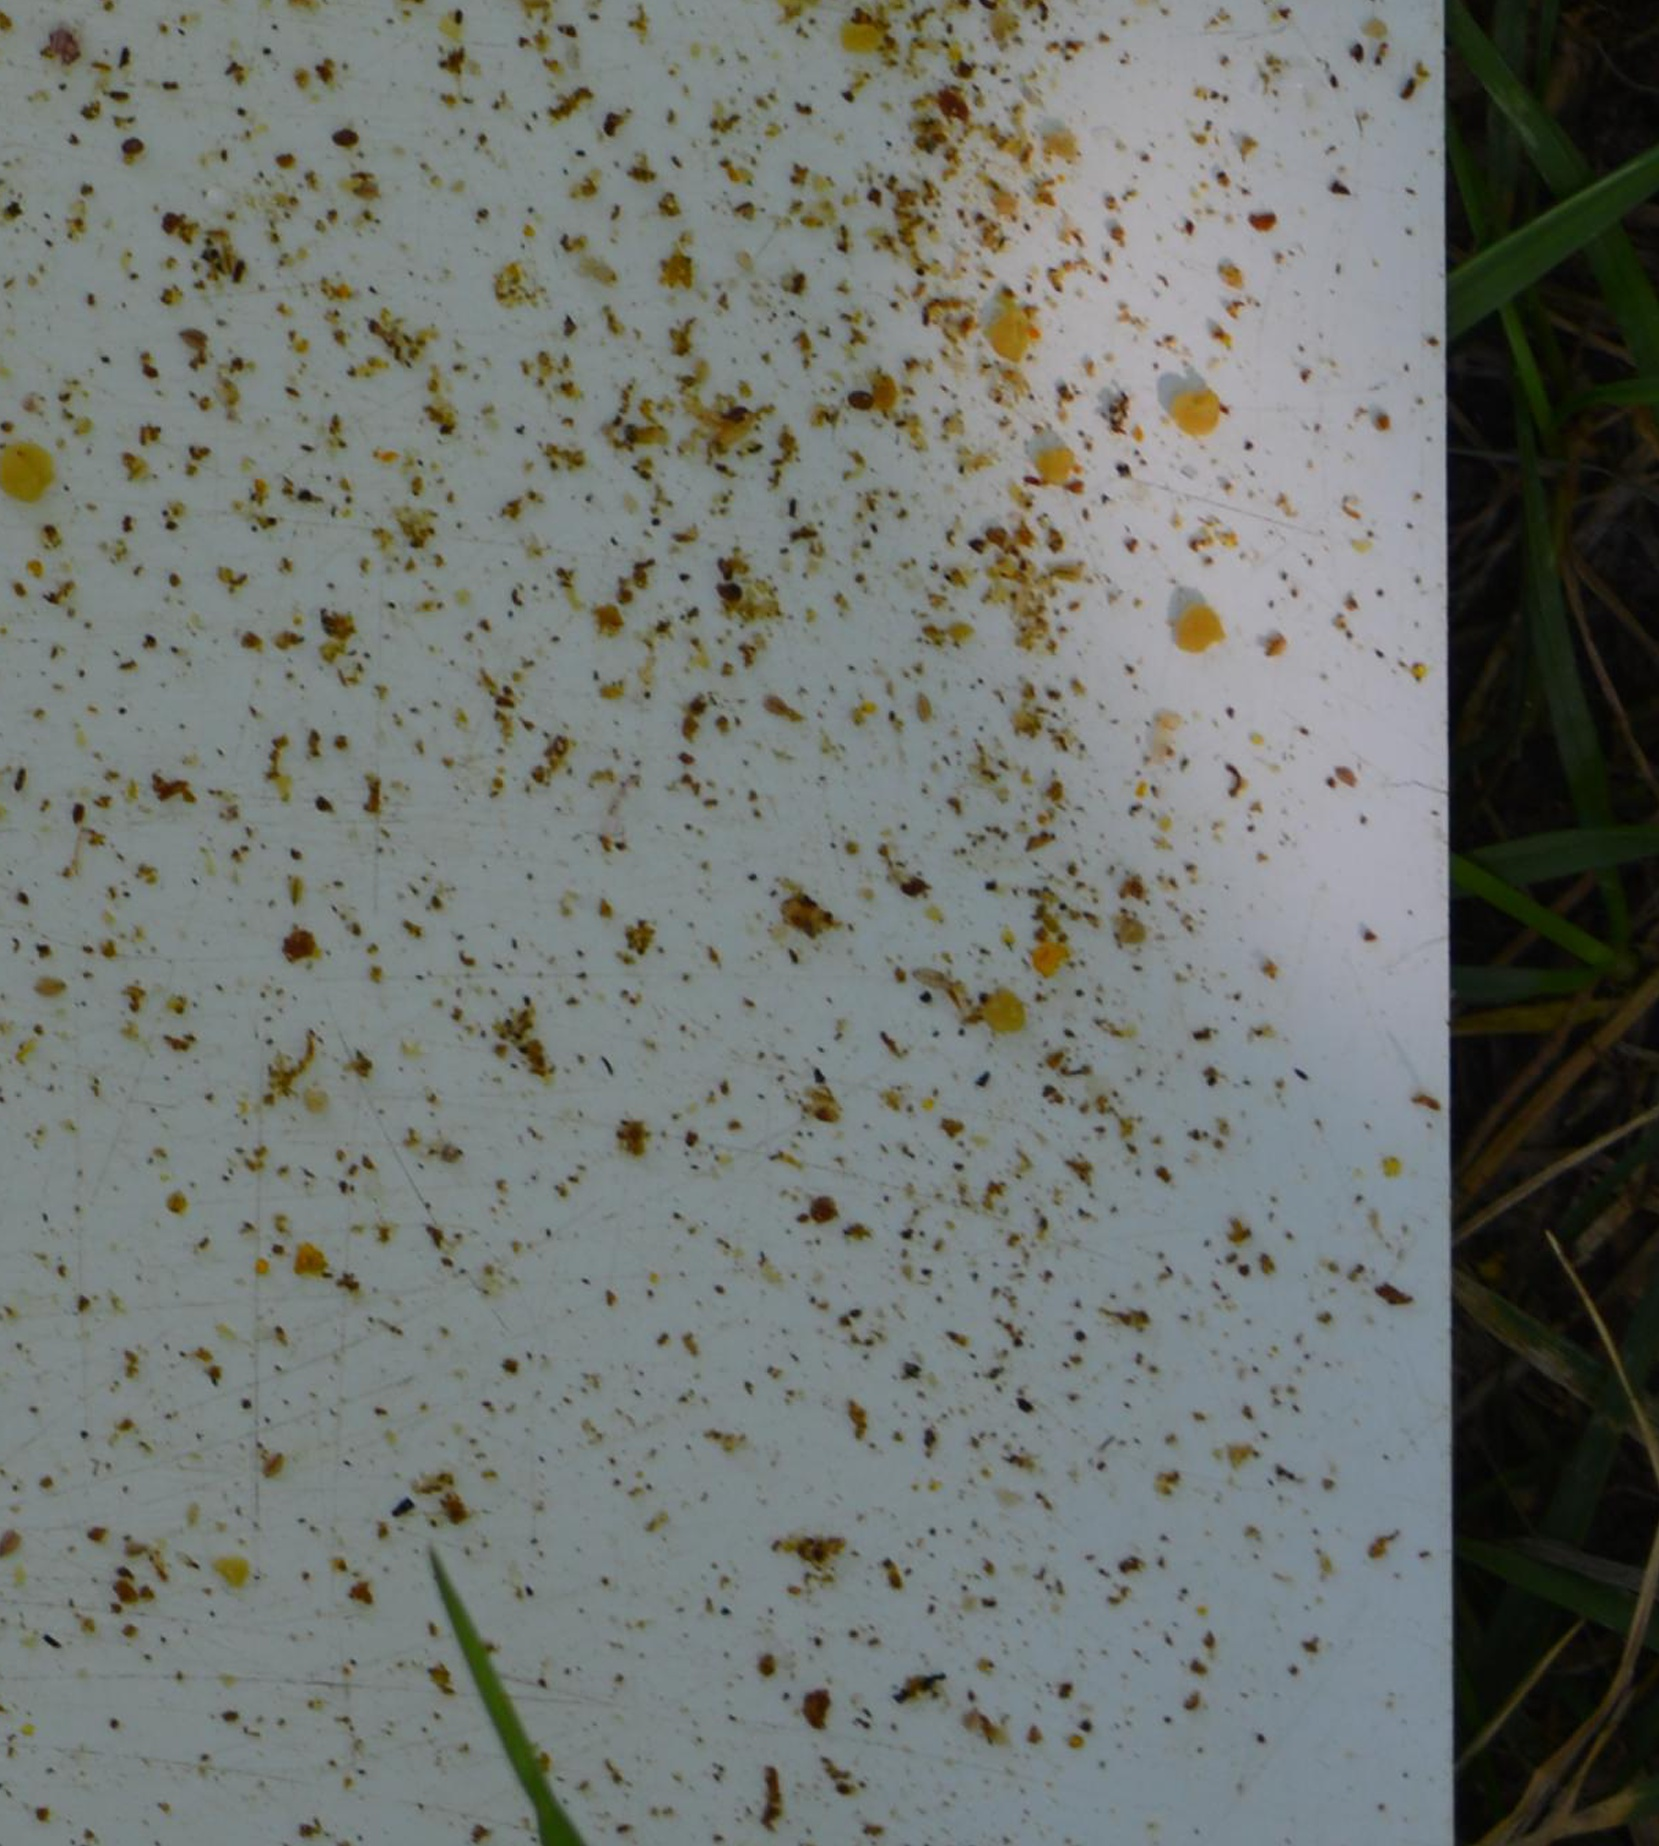Varroa: (118, 130, 147, 159), (844, 384, 874, 411), (335, 125, 360, 154)
